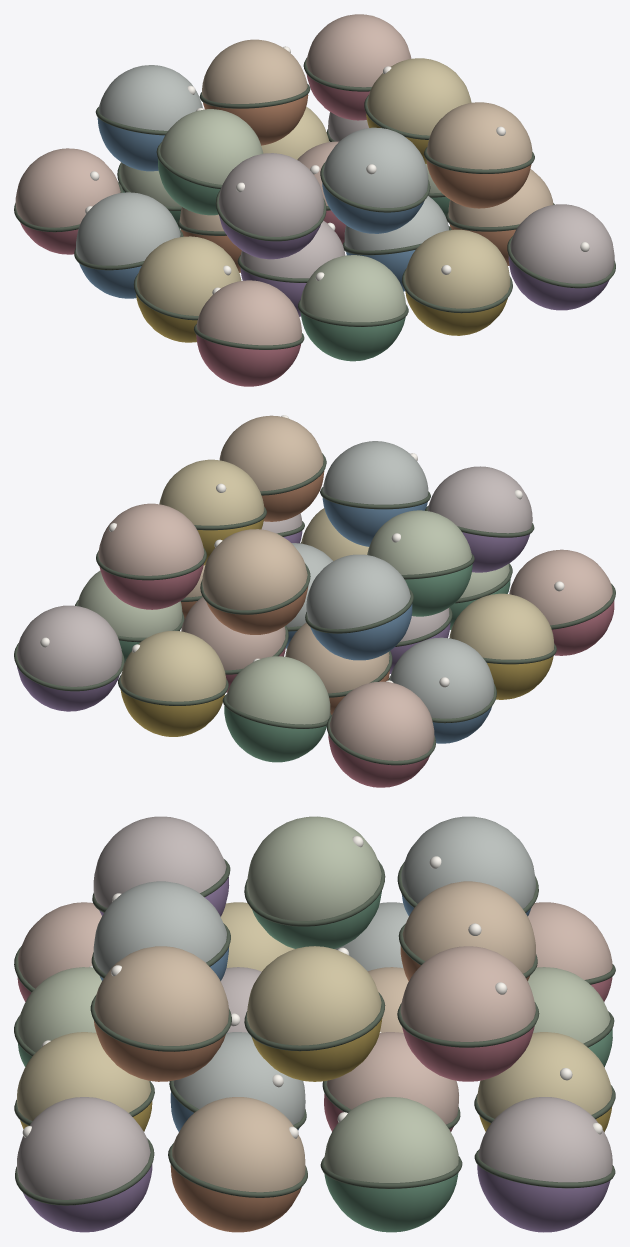
File: hopper-sky.glb
The picture shows the model from 3 angles, top to bottom: view 1: azimuth 30°, elevation 25°; view 2: azimuth 150°, elevation 25°; view 3: azimuth 270°, elevation 25°; orthographic projection. The views are drawn at different scales.
Parts seen in each view (by area): view 1: HopperBall12_Batch0, HopperBall13_Batch0, HopperBall23_Batch0, HopperBall15_Batch0, HopperBall22_Batch0, HopperBall21_Batch0, HopperBall14_Batch0, HopperBall17_Batch0, HopperBall4_Batch0, HopperBall18_Batch0, HopperBall19_Batch0, HopperBall0_Batch0 (+19 smaller); view 2: HopperBall1_Batch0, HopperBall16_Batch0, HopperBall17_Batch0, HopperBall0_Batch0, HopperBall2_Batch0, HopperBall18_Batch0, HopperBall3_Batch0, HopperBall22_Batch0, HopperBall23_Batch0, HopperBall8_Batch0, HopperBall21_Batch0, HopperBall4_Batch0 (+19 smaller); view 3: HopperBall7_Batch0, HopperBall20_Batch0, HopperBall3_Batch0, HopperBall15_Batch0, HopperBall11_Batch0, HopperBall23_Batch0, HopperBall18_Batch0, HopperBall19_Batch0, HopperBall22_Batch0, HopperBall21_Batch0, HopperBall16_Batch0, HopperBall17_Batch0 (+20 smaller).
Boxes of the visible parts, x1=… form: HopperBall12_Batch0: x1=196, y1=280, x2=301, y2=386; HopperBall13_Batch0: x1=300, y1=255, x2=406, y2=361; HopperBall23_Batch0: x1=426, y1=102, x2=532, y2=208; HopperBall15_Batch0: x1=508, y1=204, x2=614, y2=310; HopperBall22_Batch0: x1=322, y1=127, x2=428, y2=233; HopperBall21_Batch0: x1=218, y1=153, x2=324, y2=259; HopperBall14_Batch0: x1=404, y1=229, x2=510, y2=335; HopperBall17_Batch0: x1=202, y1=39, x2=308, y2=145; HopperBall4_Batch0: x1=76, y1=192, x2=180, y2=298; HopperBall18_Batch0: x1=306, y1=14, x2=411, y2=120; HopperBall19_Batch0: x1=158, y1=109, x2=263, y2=215; HopperBall0_Batch0: x1=15, y1=148, x2=120, y2=254; HopperBall1_Batch0: x1=224, y1=656, x2=330, y2=762; HopperBall16_Batch0: x1=306, y1=554, x2=412, y2=660; HopperBall17_Batch0: x1=202, y1=529, x2=308, y2=634; HopperBall0_Batch0: x1=328, y1=681, x2=434, y2=787; HopperBall2_Batch0: x1=120, y1=630, x2=226, y2=736; HopperBall18_Batch0: x1=98, y1=503, x2=204, y2=609; HopperBall3_Batch0: x1=16, y1=605, x2=122, y2=711; HopperBall22_Batch0: x1=322, y1=441, x2=428, y2=546; HopperBall23_Batch0: x1=219, y1=415, x2=324, y2=521; HopperBall8_Batch0: x1=449, y1=593, x2=554, y2=699; HopperBall21_Batch0: x1=427, y1=466, x2=532, y2=572; HopperBall4_Batch0: x1=390, y1=637, x2=494, y2=743; HopperBall7_Batch0: x1=324, y1=1097, x2=458, y2=1232; HopperBall20_Batch0: x1=247, y1=946, x2=382, y2=1081; HopperBall3_Batch0: x1=477, y1=1097, x2=612, y2=1232; HopperBall15_Batch0: x1=16, y1=1097, x2=152, y2=1232; HopperBall11_Batch0: x1=170, y1=1097, x2=305, y2=1232; HopperBall23_Batch0: x1=94, y1=946, x2=228, y2=1081; HopperBall18_Batch0: x1=400, y1=946, x2=535, y2=1081; HopperBall19_Batch0: x1=247, y1=816, x2=381, y2=948; HopperBall22_Batch0: x1=93, y1=881, x2=228, y2=980; HopperBall21_Batch0: x1=93, y1=816, x2=229, y2=916; HopperBall16_Batch0: x1=401, y1=816, x2=535, y2=916; HopperBall17_Batch0: x1=400, y1=881, x2=535, y2=981.
Size of the model in its own units: 0.157 by 0.0694 by 0.1569.
